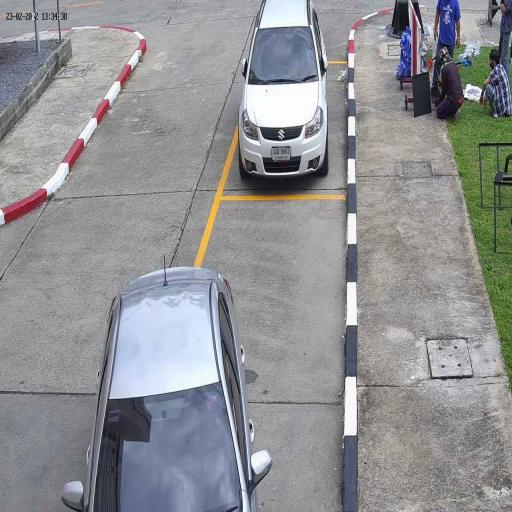car: (79, 263, 262, 512), (235, 0, 330, 186)
